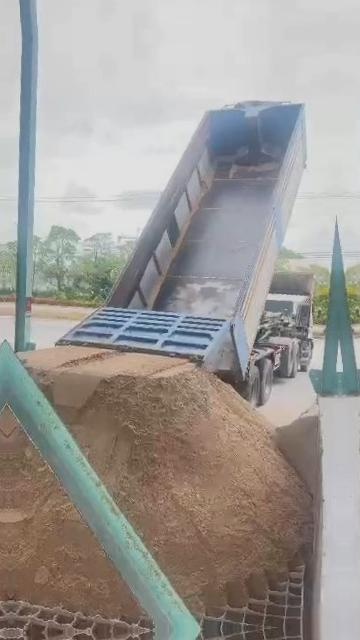sand: (24, 347, 310, 611), (7, 411, 139, 616), (275, 405, 321, 496)
